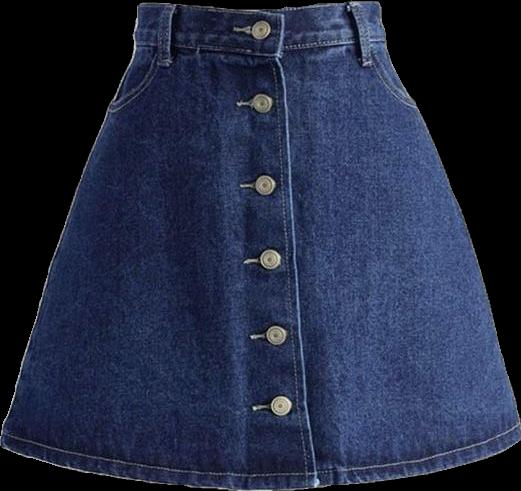Hemline: (0, 437, 520, 490)
Waistline: (131, 38, 386, 56), (135, 0, 382, 15)
